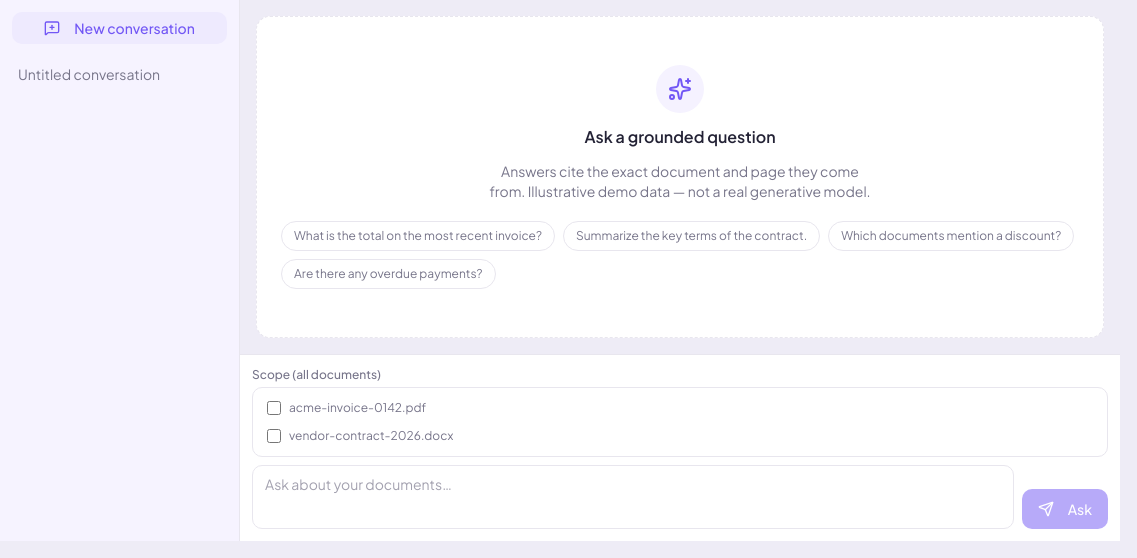
Test case: AiAssistantPage › shows an insufficient-evidence answer distinctly
Click the button "Untitled conversation" at (120, 74), box [8,56,231,92]
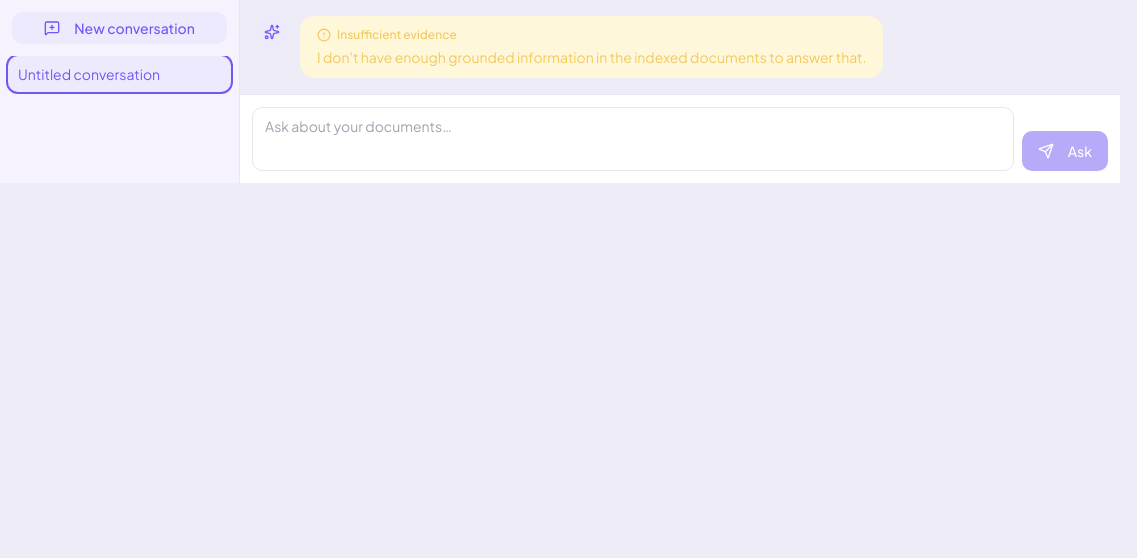
Check: the text "Insufficient evidence" is shown, box [317,27,457,42]
